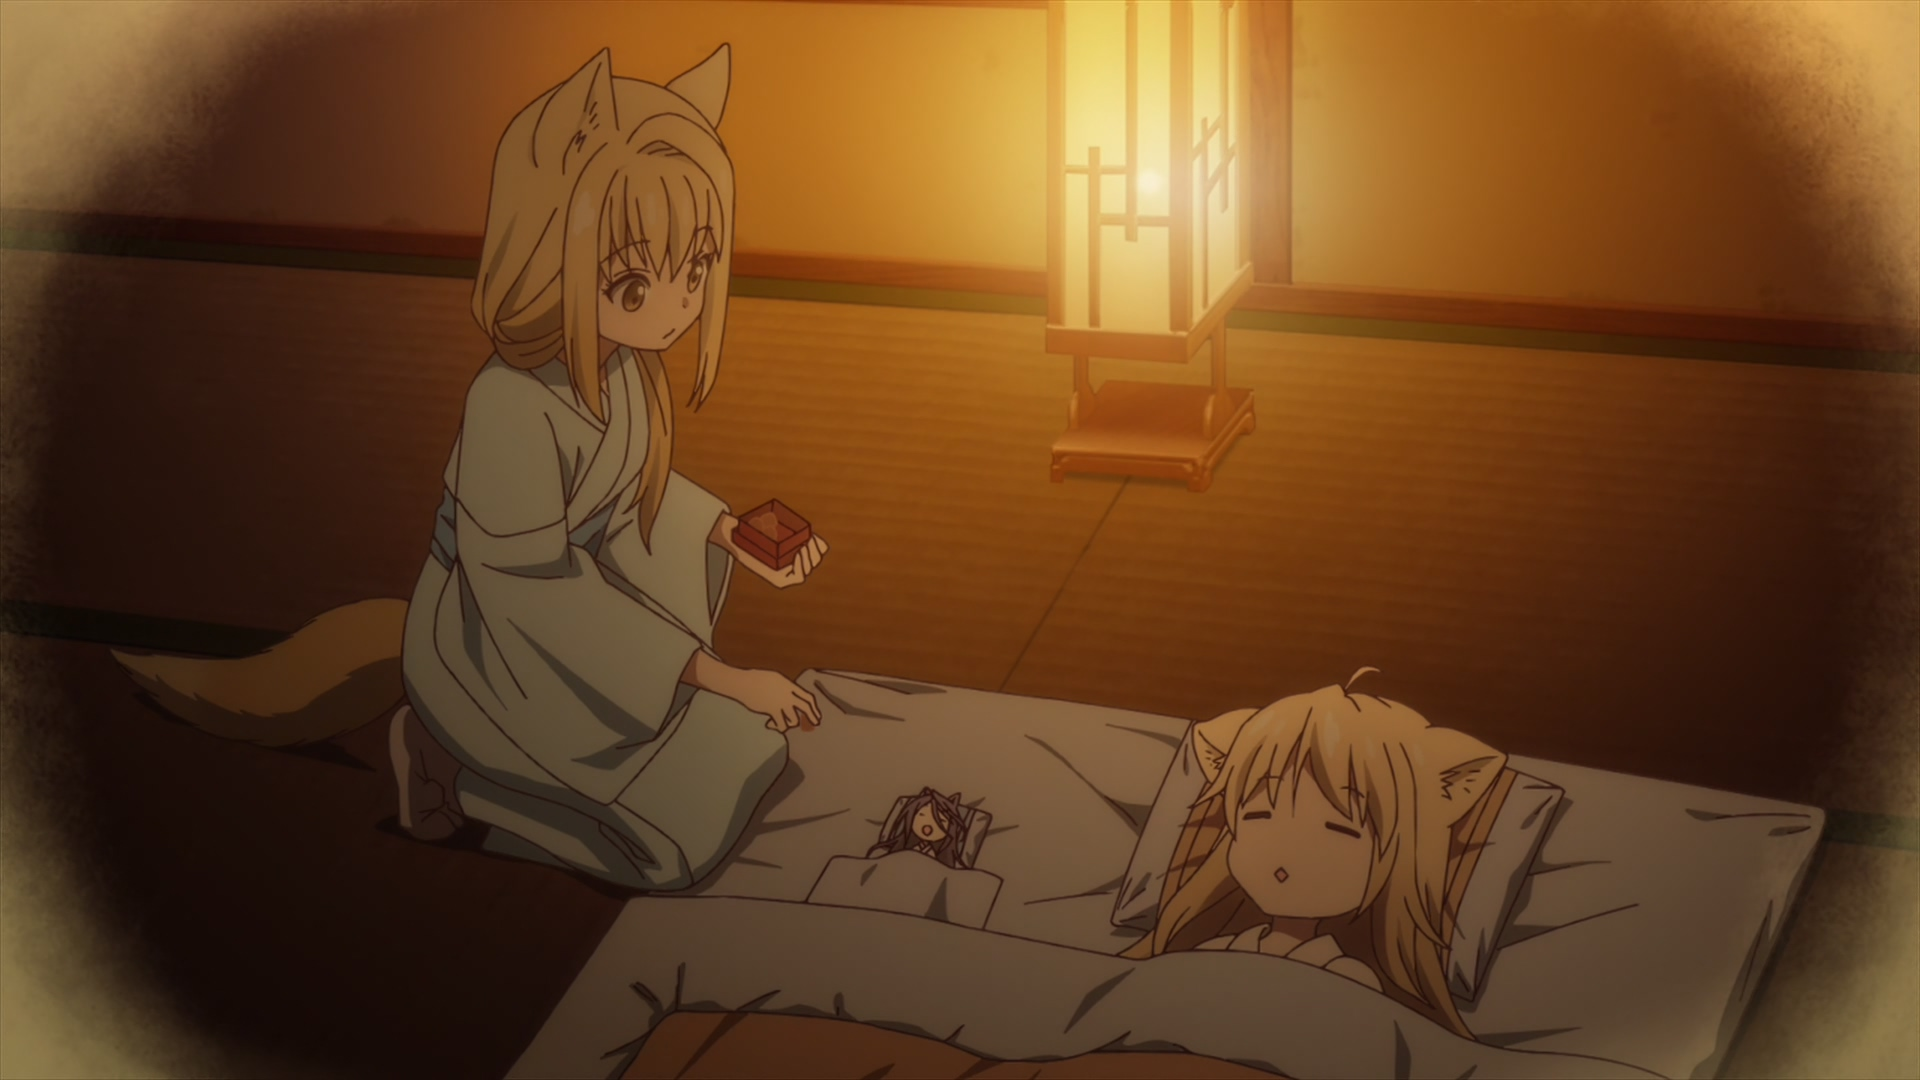柚: (1116, 665, 1507, 1040)
桐: (108, 44, 825, 895)
皋: (882, 787, 971, 864)
